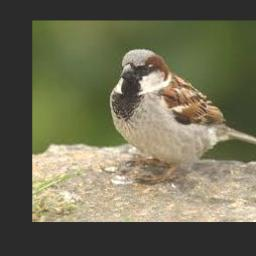Sparrow: (110, 49, 256, 185)
